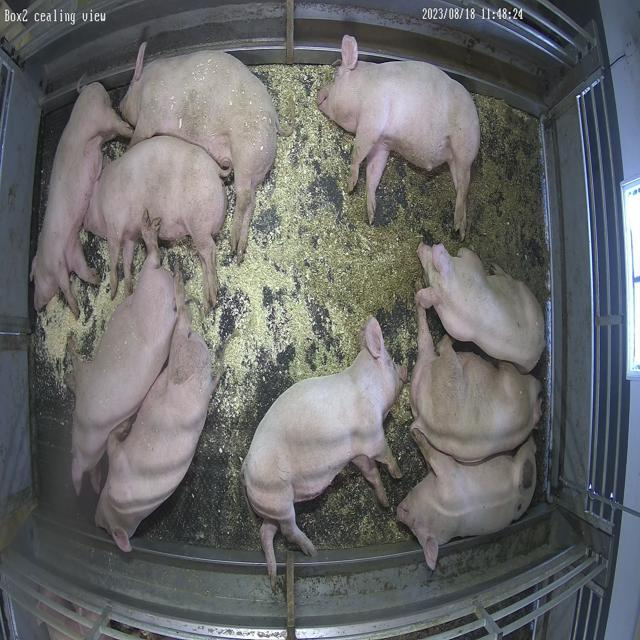Dirt: (343, 94, 549, 368)
Pig: (243, 318, 405, 578), (119, 42, 279, 262), (95, 275, 214, 552), (319, 38, 481, 240), (71, 221, 176, 494), (84, 135, 226, 306), (31, 82, 132, 314), (412, 305, 543, 464), (398, 430, 538, 570), (419, 244, 546, 374)
